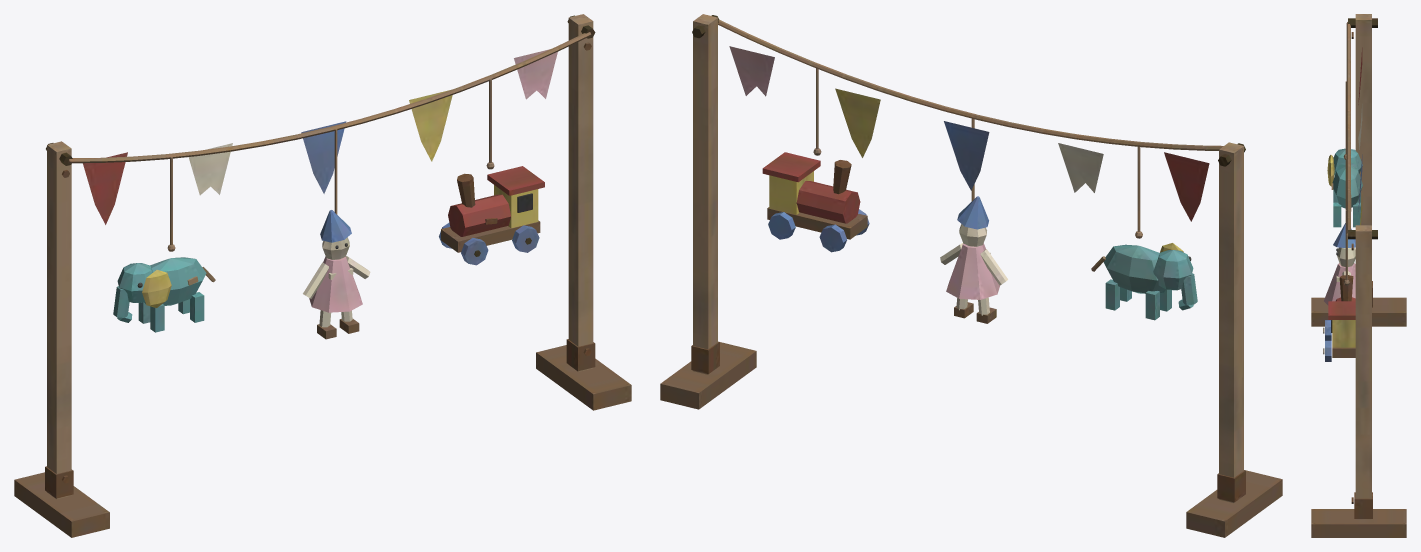
The model's file is W24_hanging_toy_bunting.glb.
3 views of the same model, side by side, from view 1: azimuth 30°, elevation 25°; view 2: azimuth 150°, elevation 25°; view 3: azimuth 270°, elevation 25° (orthographic). The views are drawn at different scales.
Visible parts, largest first — view 1: Splayed timber foot; view 2: Splayed timber foot; view 3: Splayed timber foot.
Boxes of the visible parts, bbox=[...] form: Splayed timber foot: bbox=[14, 14, 631, 537]; Splayed timber foot: bbox=[660, 14, 1282, 537]; Splayed timber foot: bbox=[1311, 14, 1406, 537].
Size of the model in its own units: 4 by 2.48 by 0.7089.
Materials: 12 (12 with a texture image).
